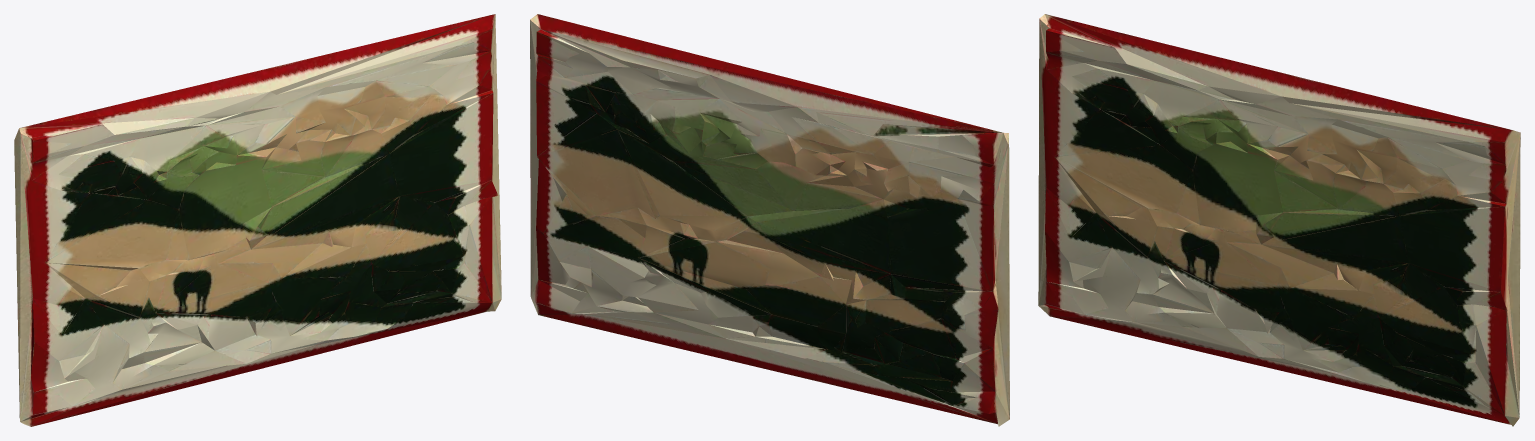
File: rug.glb
The picture shows the model from 3 angles, left to right: view 1: azimuth 30°, elevation 25°; view 2: azimuth 150°, elevation 25°; view 3: azimuth 330°, elevation 25°; orthographic projection.
Bounding box in the file's own units: 1.9 × 1.12 × 0.1151.
1 material, 1 textured.
